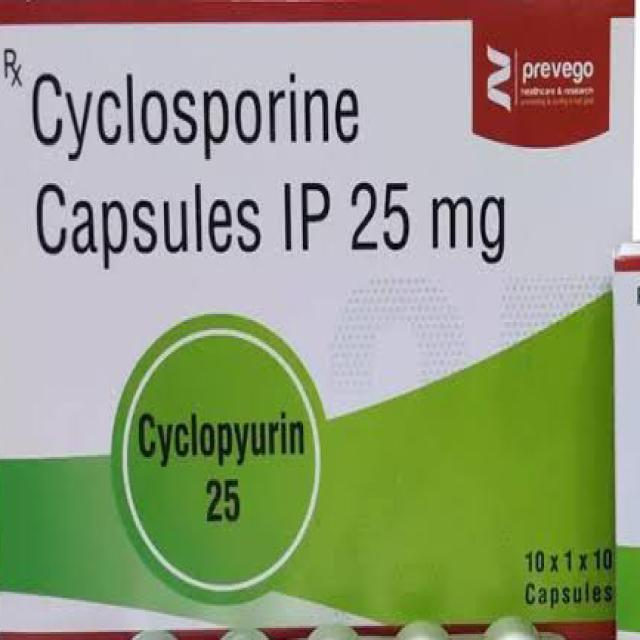drug-name: (134, 414, 311, 527)
